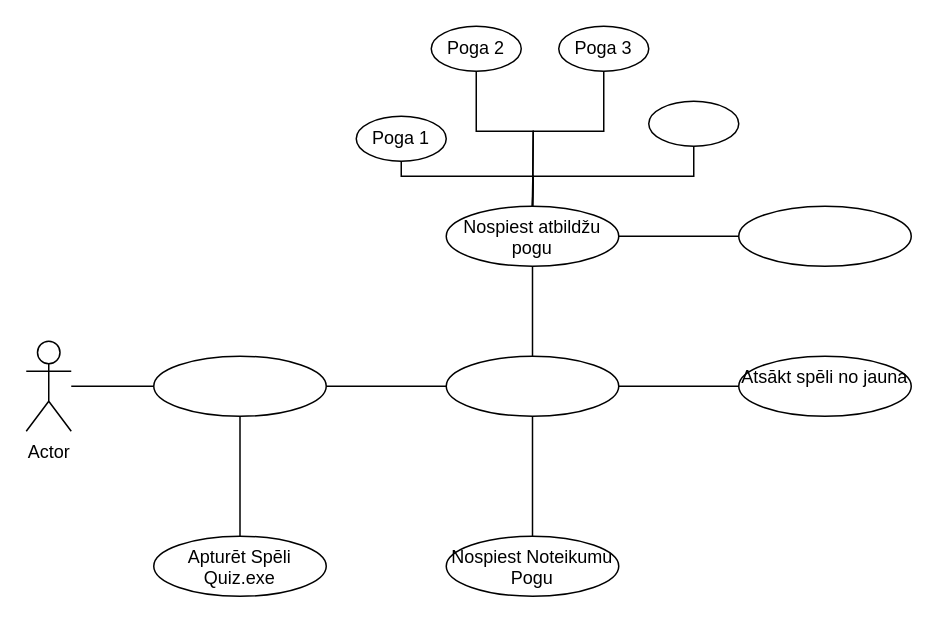
The diagram is 938 pixels wide and 623 high, and some of its shapes have lost their labels. The shapes that lost their labels are listed below. From the top down, each one's centre as x and y in pixels, then its label:
At (693,123): "Poga 4".
At (824,235): "Apskatīties Rezultātus".
At (239,385): "Startet Speli Quiz.exe".
At (532,385): "Nospiest Play pogu".
